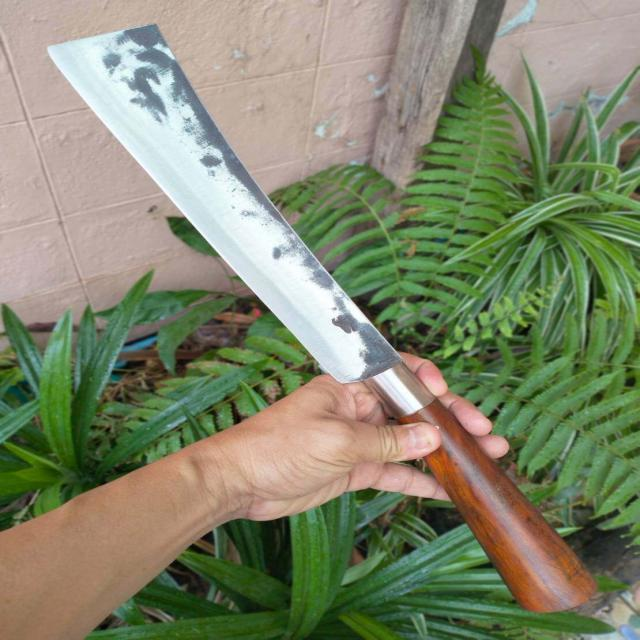eto: (27, 12, 626, 636)
